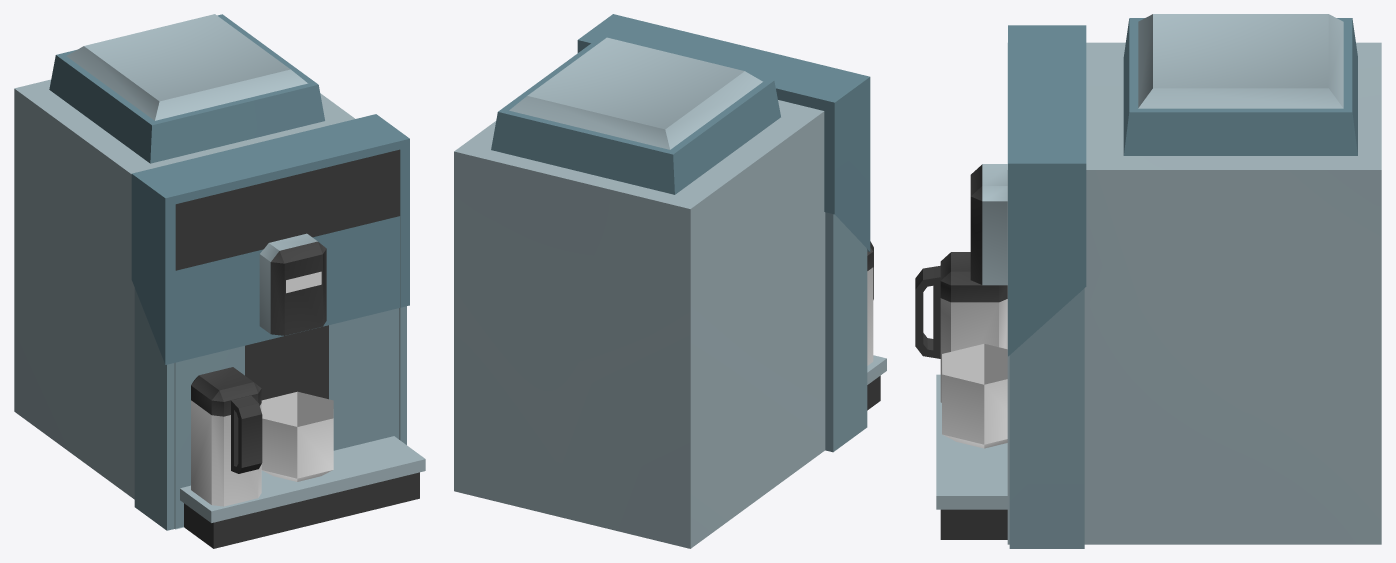
Rendered from coffee_machine_001.glb.
3 views of the same model, side by side, from view 1: azimuth 30°, elevation 25°; view 2: azimuth 150°, elevation 25°; view 3: azimuth 270°, elevation 25° (orthographic). The views are drawn at different scales.
Visible parts, largest first — view 1: coffee_machine_001; view 2: coffee_machine_001; view 3: coffee_machine_001.
Part boxes in pixels (left/top/right/bottom): coffee_machine_001: left=14, top=14, right=425, bottom=548; coffee_machine_001: left=454, top=14, right=886, bottom=548; coffee_machine_001: left=915, top=14, right=1381, bottom=548.
Size of the model in its own units: 0.2354 by 0.3415 by 0.3351.
1 material, 1 textured.
